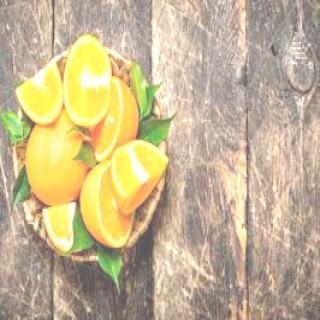orange: (16, 108, 94, 208), (108, 134, 176, 218), (81, 159, 134, 262), (63, 29, 115, 130)
